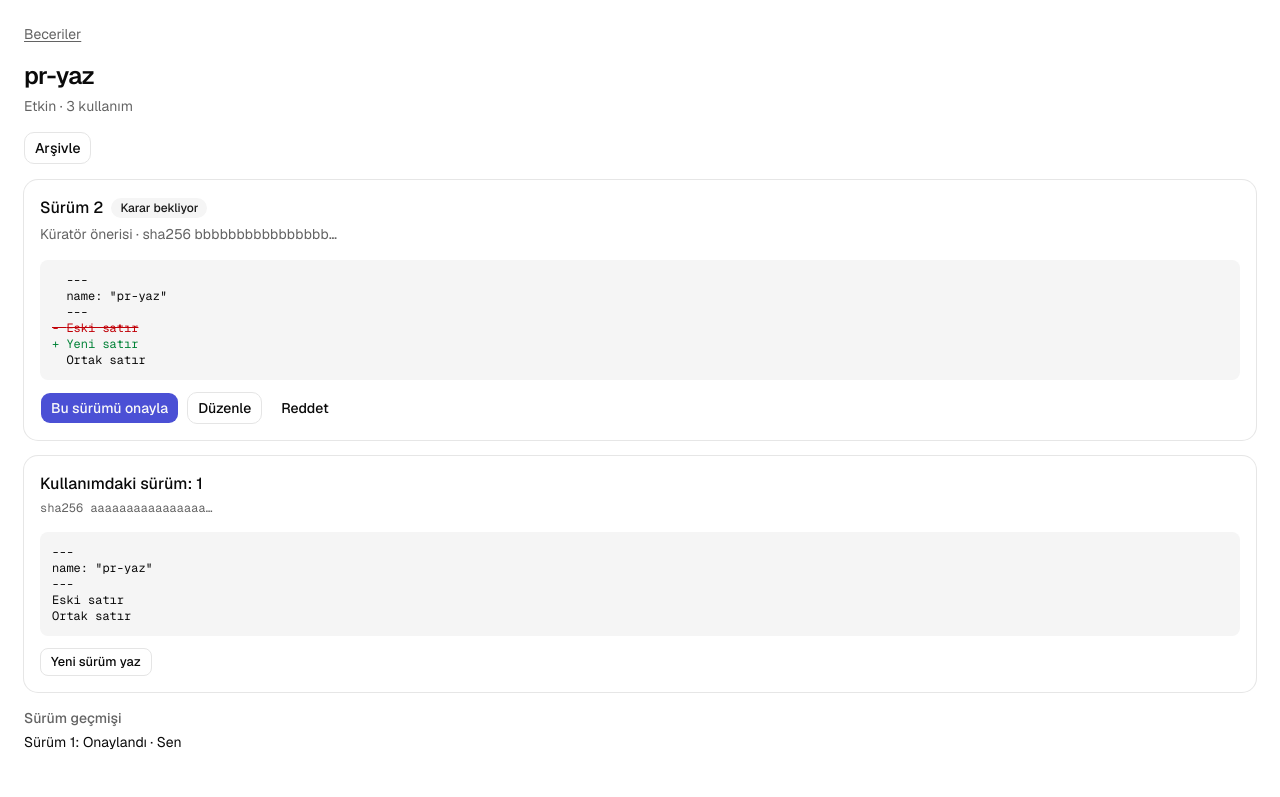
Test: SkillDetailView › edits then approves, rejects, and archives
The image size is (1280, 797).
Step 1. Click the button "Düzenle" → point(225, 408), box x1=187 y1=392 x2=262 y2=424
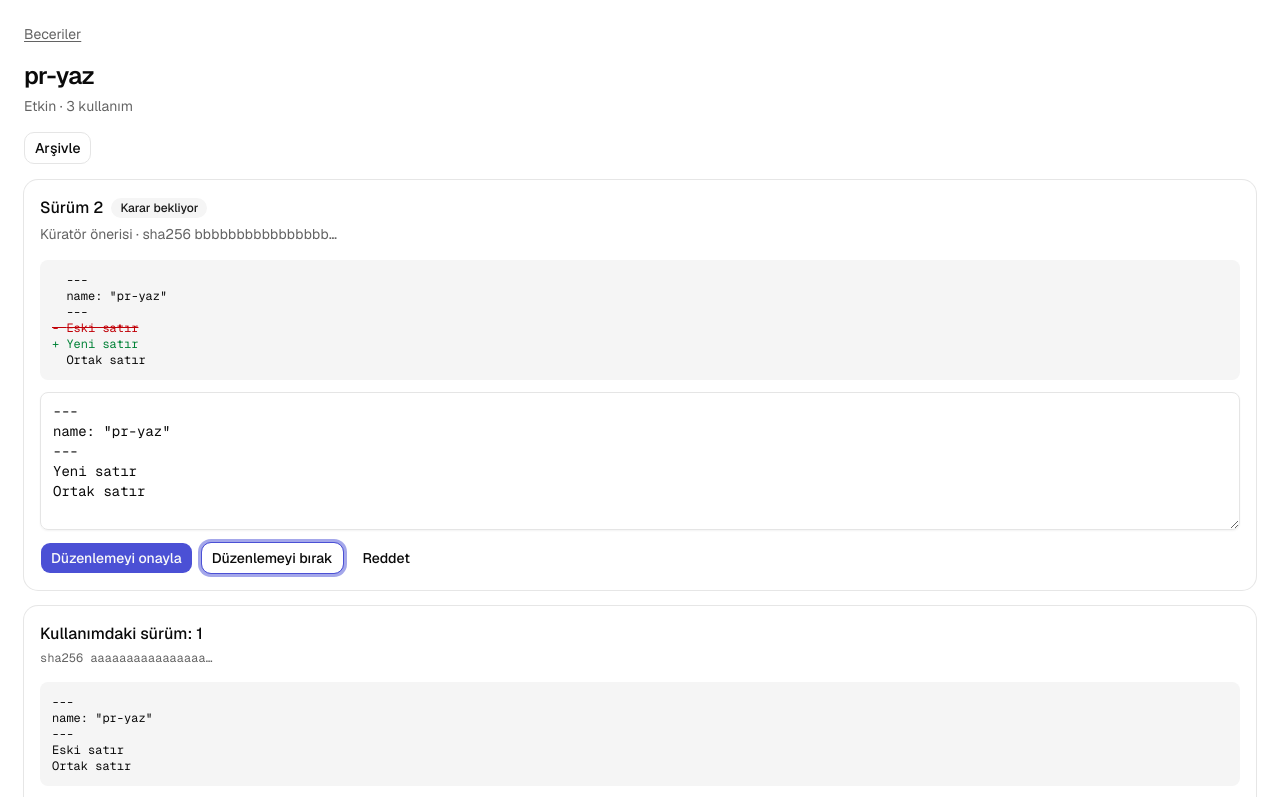
Step 2. Type " ek" into the text box named "Düzenlenmiş SKILL.md" → point(640, 461), box x1=40 y1=392 x2=1240 y2=530
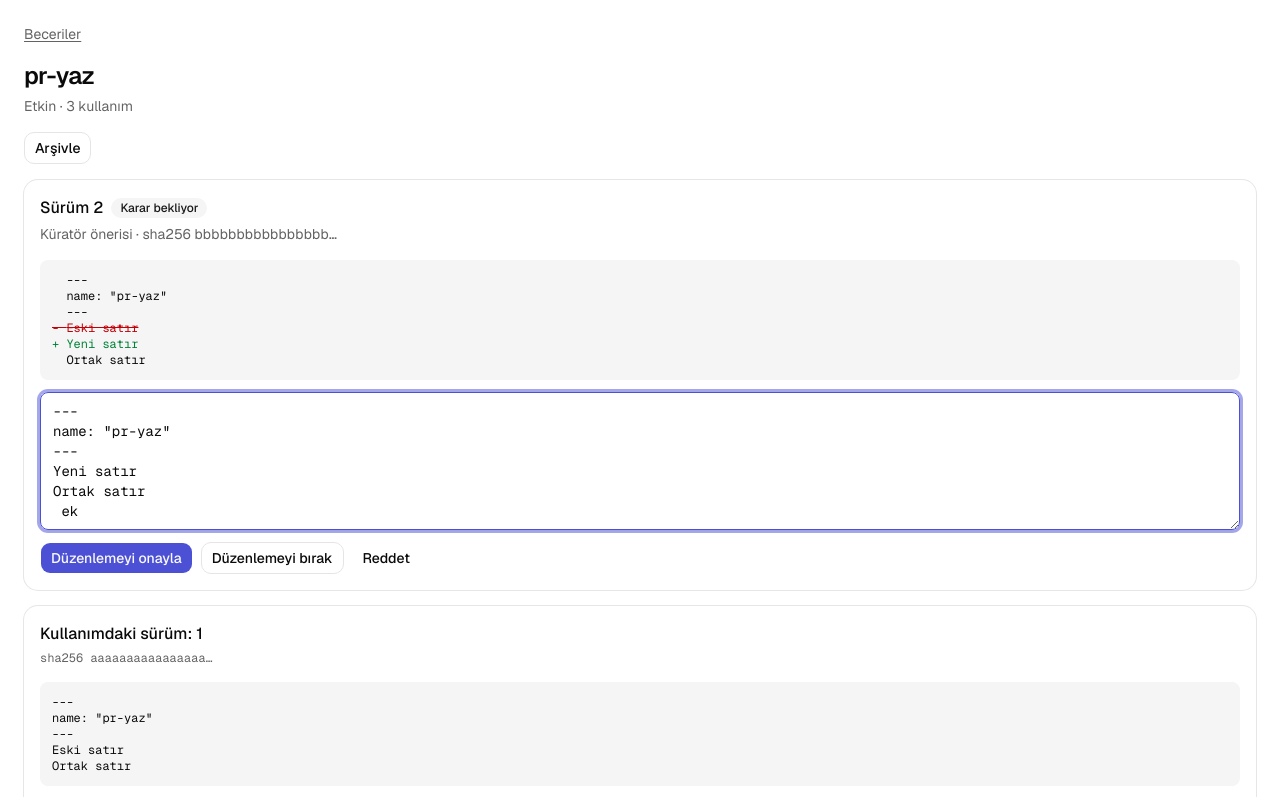
Step 3. Click the button "Düzenlemeyi onayla" → point(116, 558), box x1=40 y1=542 x2=193 y2=574
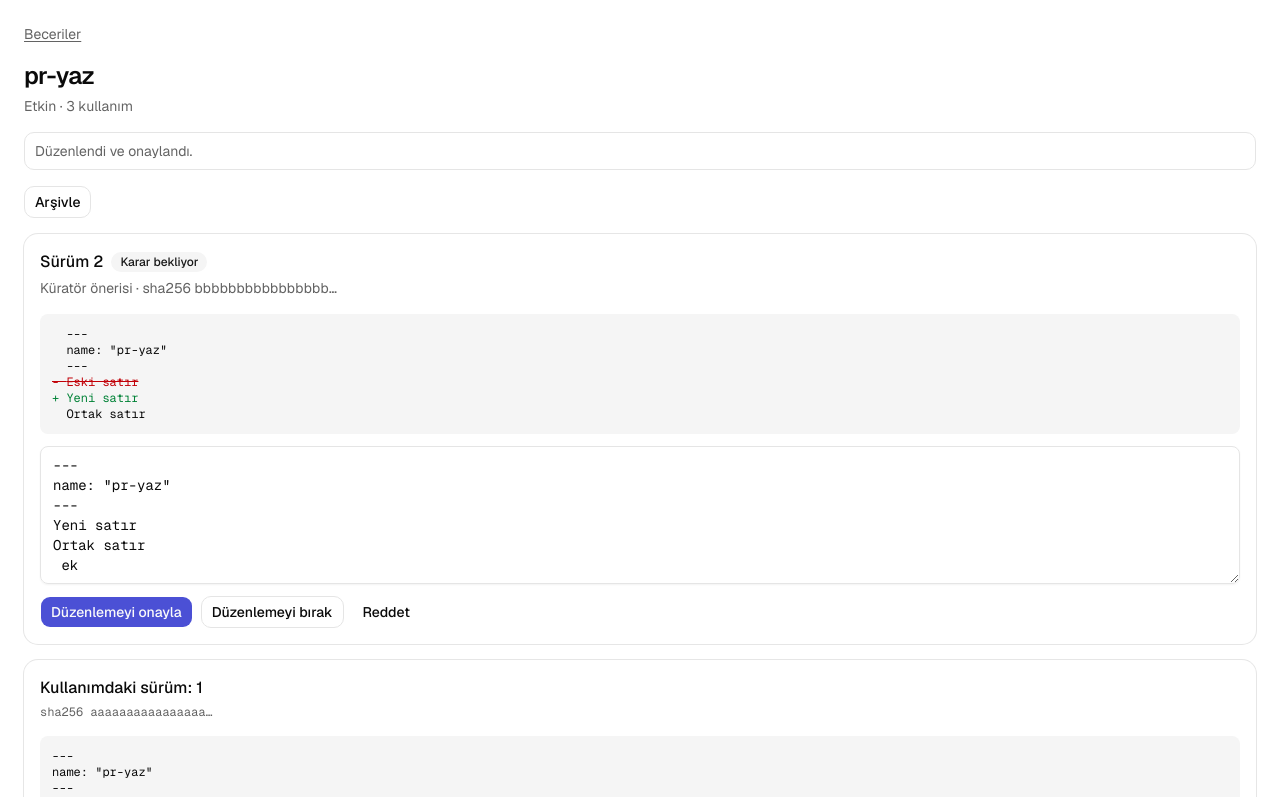
Expected: the text "Düzenlendi ve onaylandı." is shown, x1=35 y1=142 x2=192 y2=160
Step 4. Click the button "Reddet" → point(386, 612), box x1=352 y1=596 x2=421 y2=628
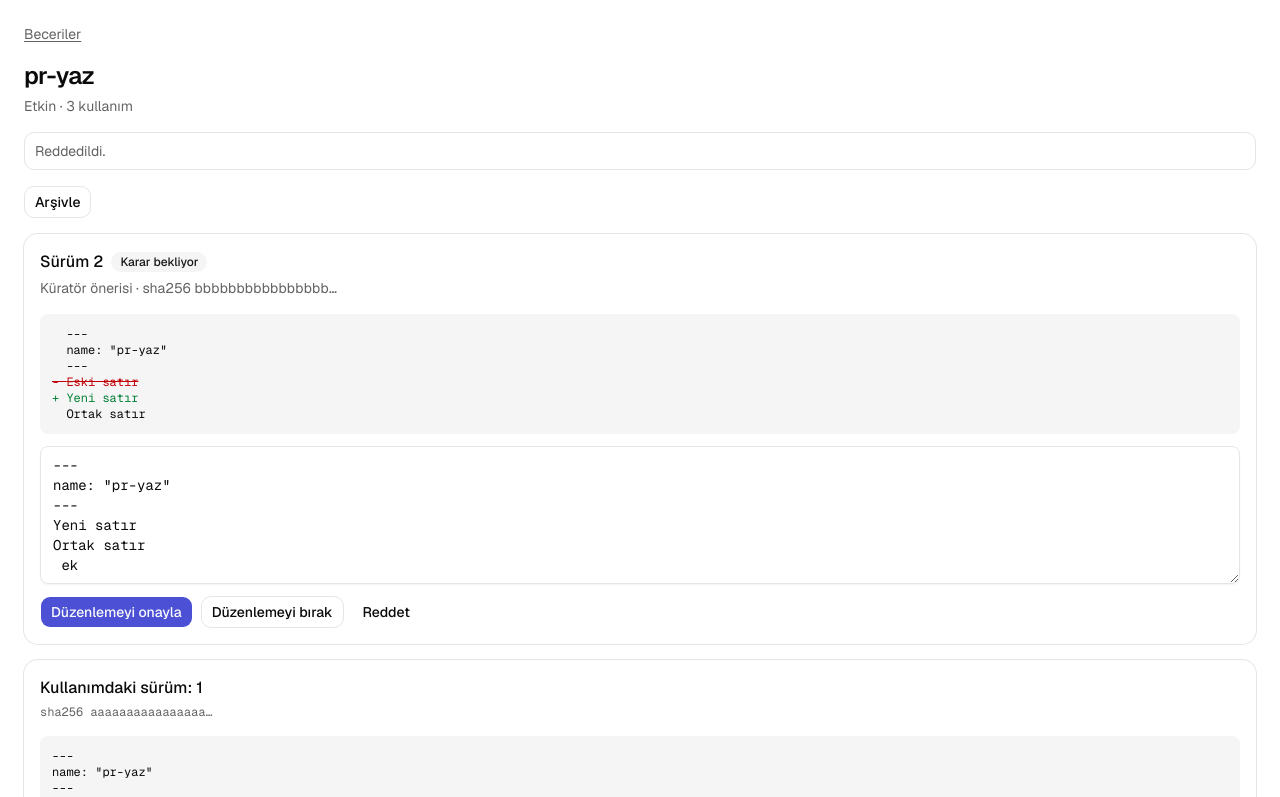
Expected: the text "Reddedildi." is shown, x1=35 y1=142 x2=105 y2=160
Step 5. Click the button "Arşivle" → point(58, 202), box x1=24 y1=186 x2=92 y2=218
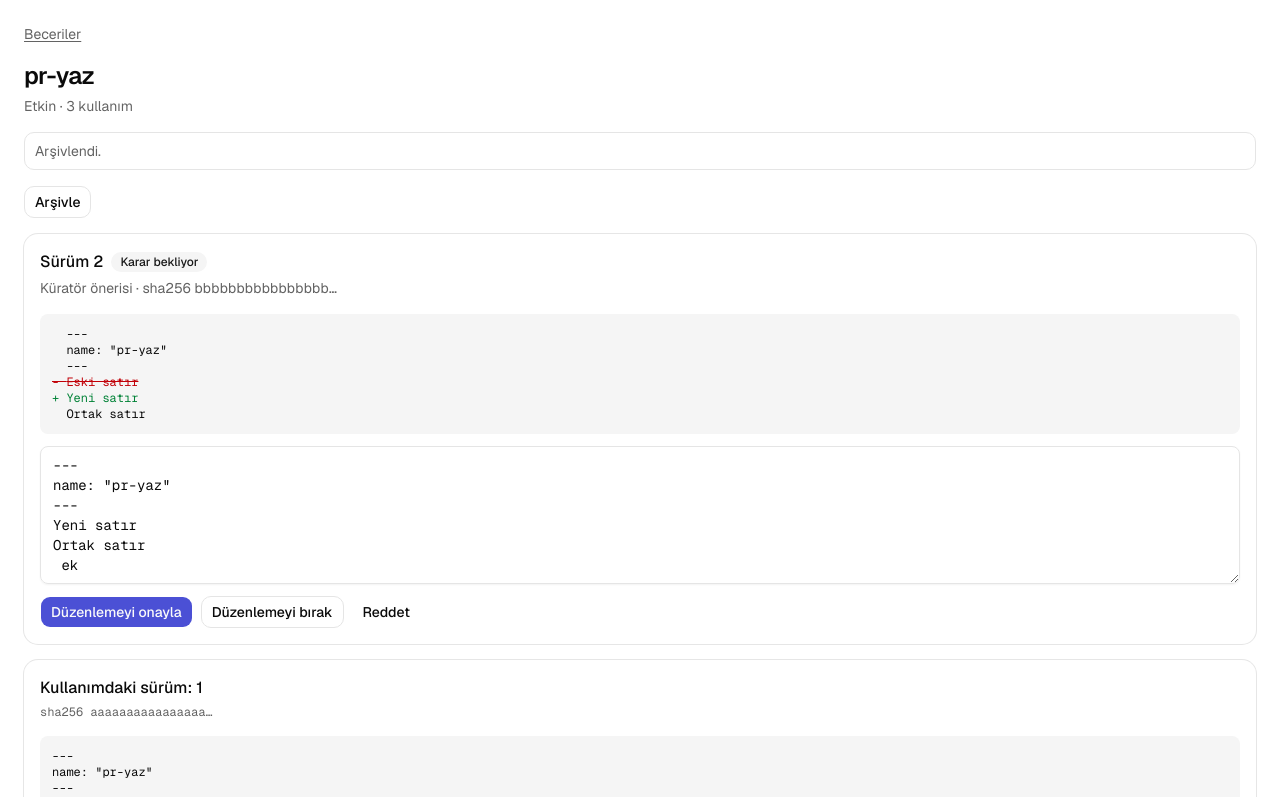
Expected: the text "Arşivlendi." is shown, x1=35 y1=142 x2=101 y2=160
